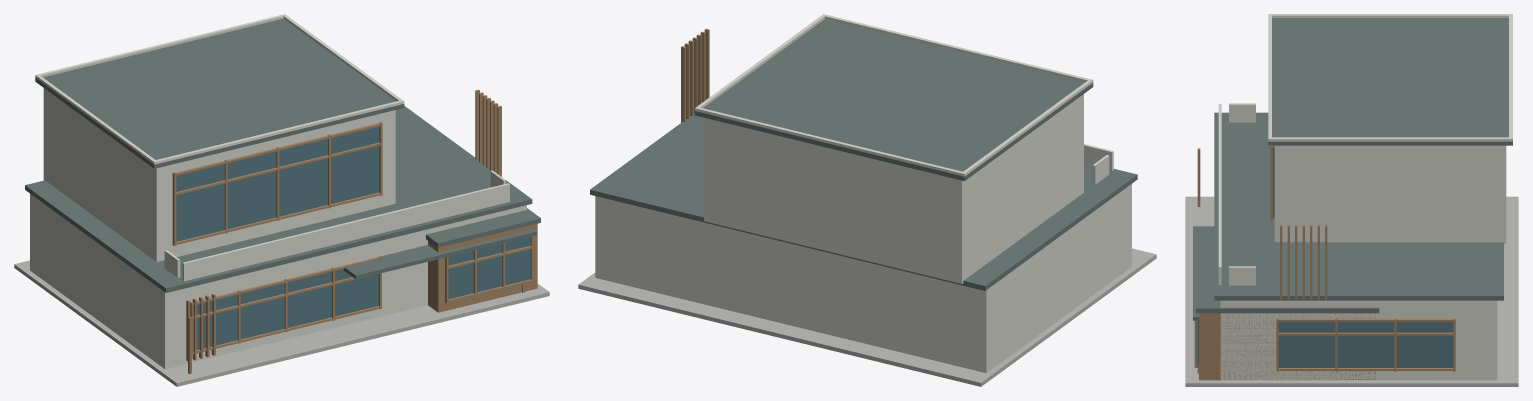
The model's file is house_large_03.glb.
The picture shows the model from 3 angles, left to right: view 1: azimuth 30°, elevation 25°; view 2: azimuth 150°, elevation 25°; view 3: azimuth 270°, elevation 25°; orthographic projection. The views are drawn at different scales.
Visible parts, largest first — view 1: House_large_03; view 2: House_large_03; view 3: House_large_03.
Boxes of the visible parts, x1=… form: House_large_03: x1=14, y1=14, x2=549, y2=386; House_large_03: x1=578, y1=14, x2=1156, y2=386; House_large_03: x1=1185, y1=14, x2=1518, y2=386.
Bounding box in the file's own units: 18.8 × 9.18 × 14.2.
